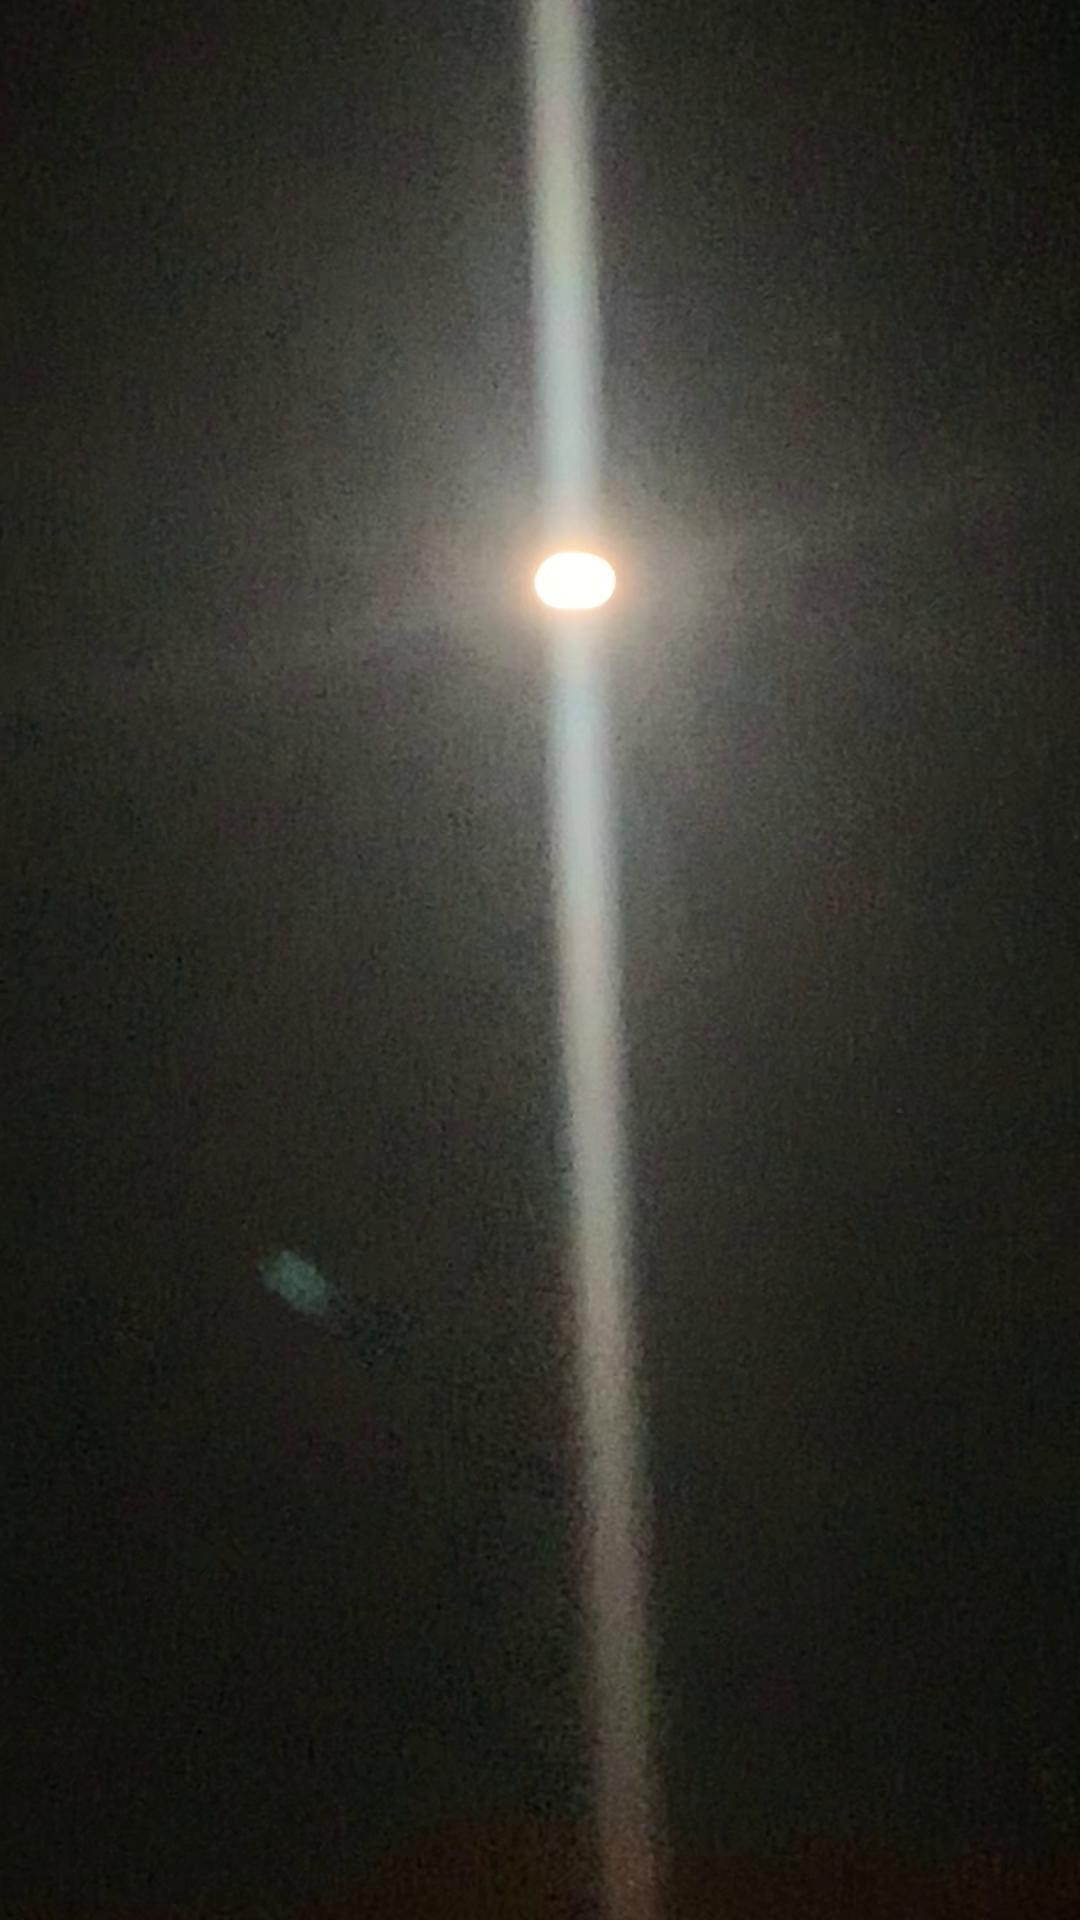moon: (522, 512, 651, 637)
